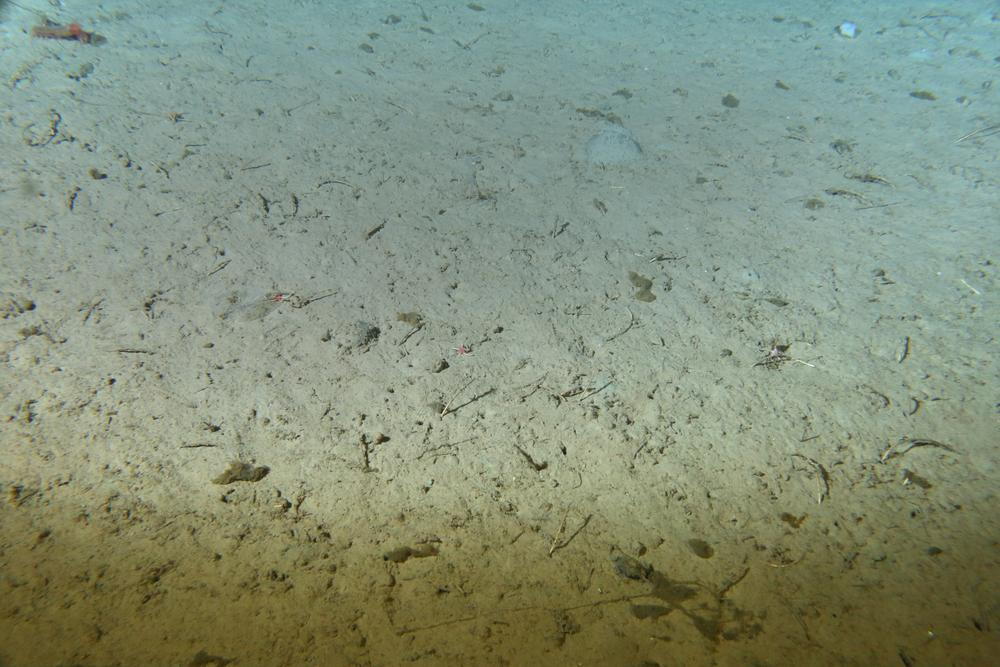Peniagone sp. A: (31, 19, 92, 48)
